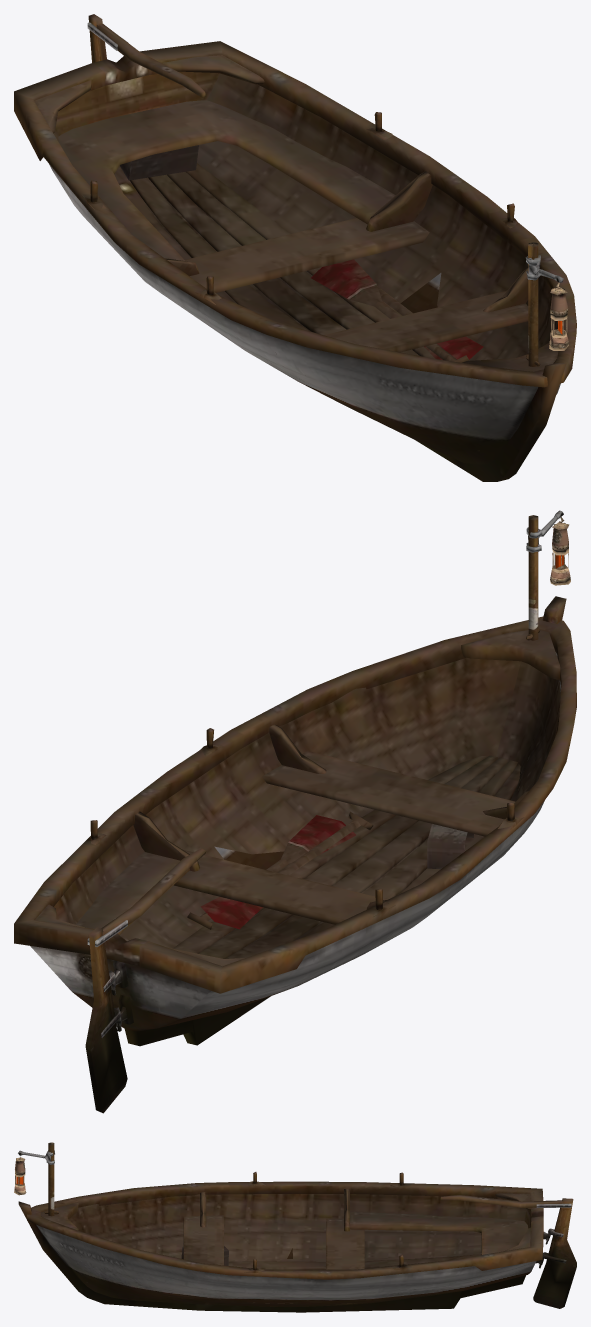
Rendered from cove-victorian-rowboat.lod0.glb.
3 renders of one model, top to bottom at view 1: azimuth 30°, elevation 25°; view 2: azimuth 150°, elevation 25°; view 3: azimuth 270°, elevation 25°, orthographic. The views are drawn at different scales.
Parts seen in each view (by area): view 1: defaultMaterial; view 2: defaultMaterial; view 3: defaultMaterial.
Boxes of the visible parts, left/top/right/bottom form: defaultMaterial: left=14, top=14, right=576, bottom=481; defaultMaterial: left=14, top=510, right=576, bottom=1113; defaultMaterial: left=14, top=1142, right=576, bottom=1312.
Bounding box in the file's own units: 1.48 × 1.25 × 3.8.
2 materials, 1 textured.
